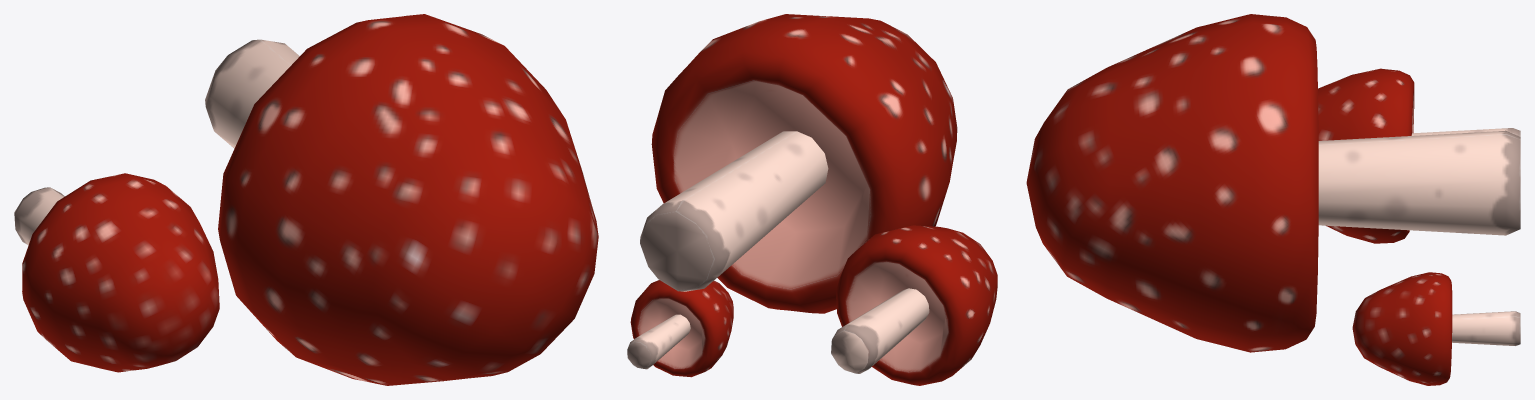
The model's file is mushroom4.glb.
3 views of the same model, side by side, from view 1: azimuth 30°, elevation 25°; view 2: azimuth 150°, elevation 25°; view 3: azimuth 270°, elevation 25° (orthographic). The views are drawn at different scales.
Visible parts, largest first — view 1: 6.001_Cube.004; view 2: 6.001_Cube.004; view 3: 6.001_Cube.004.
Part boxes in pixels (box(x1,y1,x2,y2)): 6.001_Cube.004: box(14, 14, 598, 385); 6.001_Cube.004: box(627, 14, 997, 385); 6.001_Cube.004: box(1026, 14, 1520, 385).
Bounding box in the file's own units: 1.33 × 1.02 × 1.38.
Materials: 1 (1 with a texture image).
